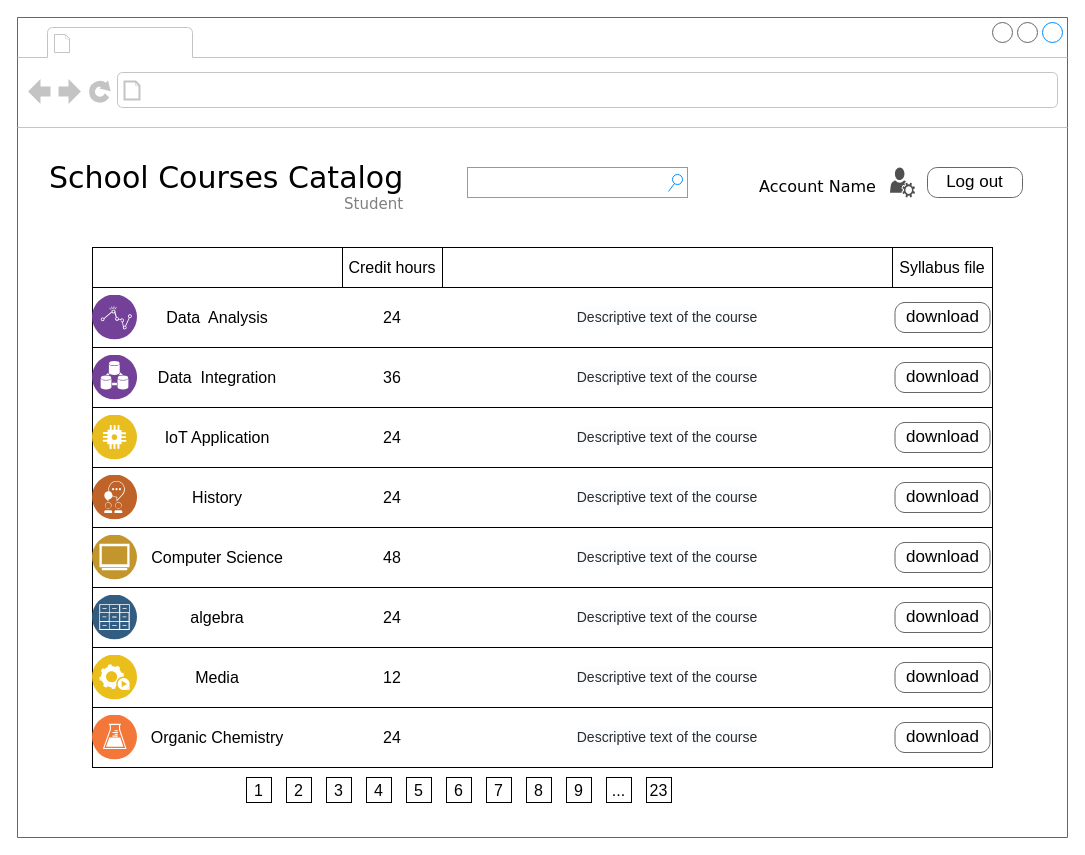
The diagram is 1085 pixels wide and 855 high, and some of its shapes have lost their labels. Here are the shapes that lost their labels. From the top down, the centre of each, then its label:
At (132,42): "Page 1".
At (272,90): "https://www.default.com".
At (577,182): "Search the course".
At (217,267): "Courses".
At (667,267): "Brief description of the course".
